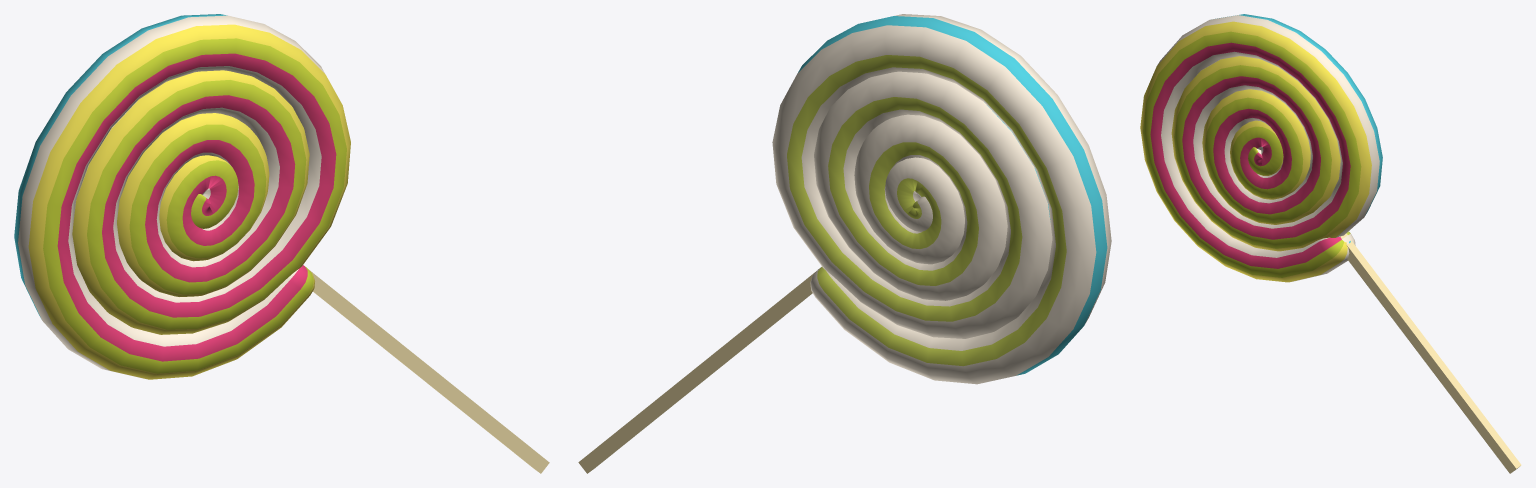
The model's file is lollipop.glb.
3 renders of one model, left to right at view 1: azimuth 30°, elevation 25°; view 2: azimuth 150°, elevation 25°; view 3: azimuth 330°, elevation 25°, orthographic. The views are drawn at different scales.
Parts seen in each view (by area): view 1: BezierCurve.001; view 2: BezierCurve.001; view 3: BezierCurve.001.
Boxes of the visible parts, box(x1,y1,x2,y2) form: BezierCurve.001: box(14, 14, 549, 473); BezierCurve.001: box(578, 14, 1111, 473); BezierCurve.001: box(1140, 14, 1521, 473).
Size of the model in its own units: 2.28 by 2.23 by 0.2449.
Materials: 1 (1 with a texture image).
